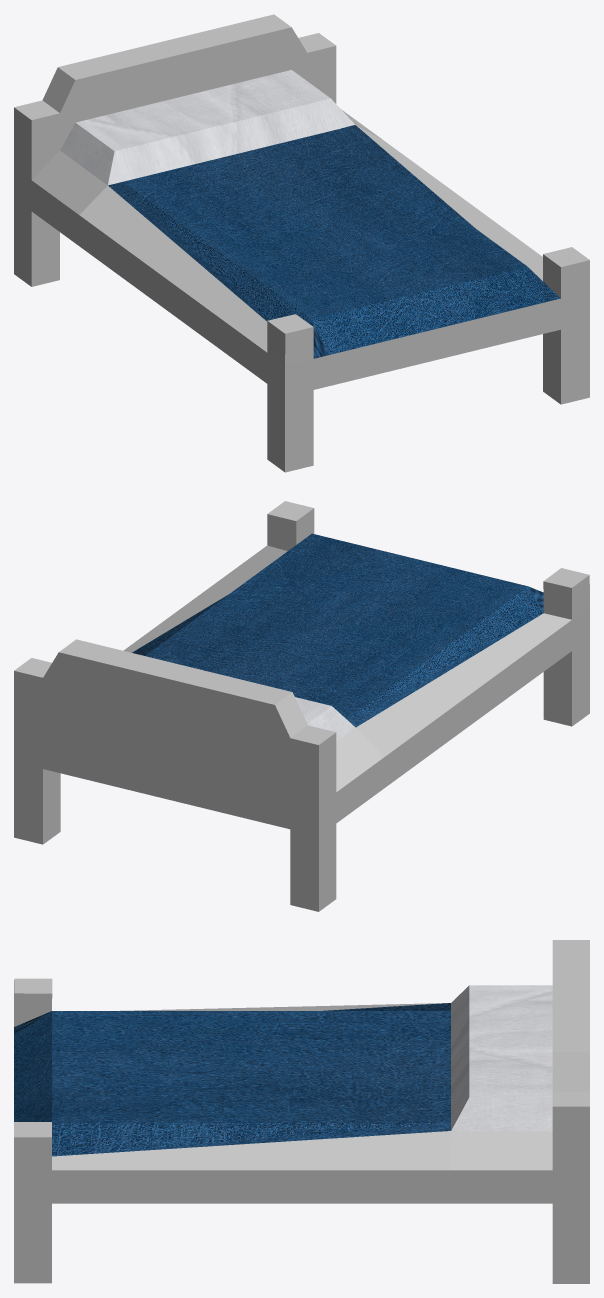
File: krovat.fbx
3 renders of one model, top to bottom at view 1: azimuth 30°, elevation 25°; view 2: azimuth 150°, elevation 25°; view 3: azimuth 270°, elevation 25°, orthographic. The views are drawn at different scales.
Visible parts, largest first — view 1: Cube; view 2: Cube; view 3: Cube.
Boxes of the visible parts, left/top/right/bottom form: Cube: left=14, top=14, right=589, bottom=472; Cube: left=14, top=501, right=589, bottom=911; Cube: left=14, top=940, right=589, bottom=1283.
Size of the model in its own units: 422 by 260 by 650.
